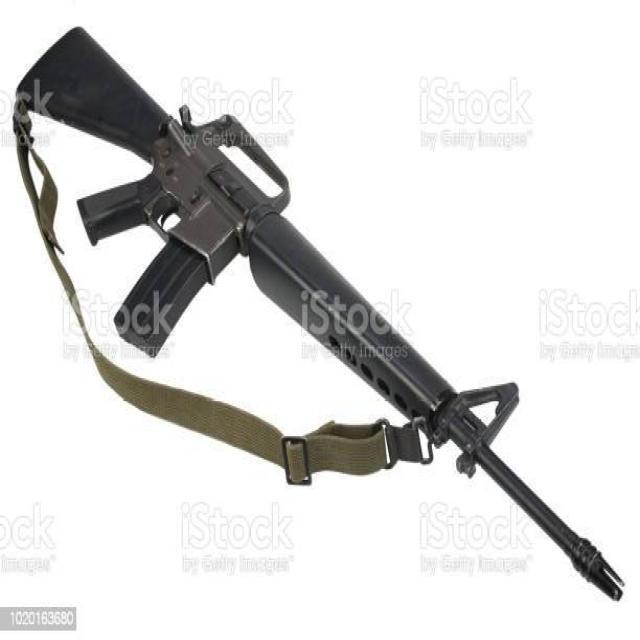m16: (27, 18, 588, 540)
